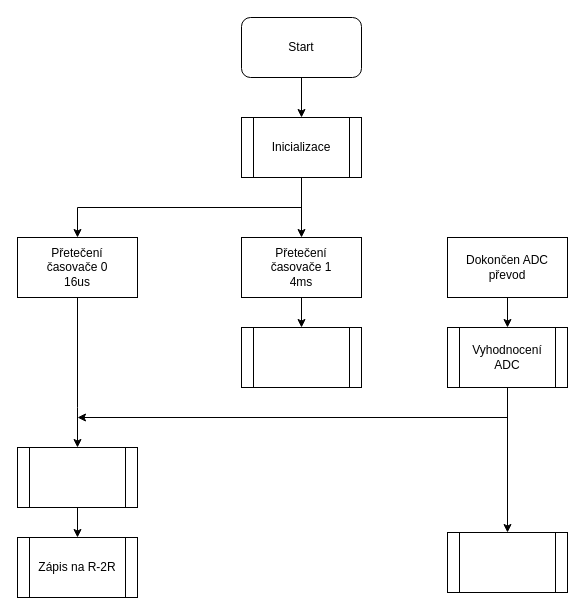
The diagram is 585 pixels wide and 615 high, and some of its shapes have lost their labels. Each missing label, with the centre of its shape:
Generování signálu: the point at 77,477
spustit ADC převod: the point at 301,357
Zápis na LCD a UART: the point at 507,562
